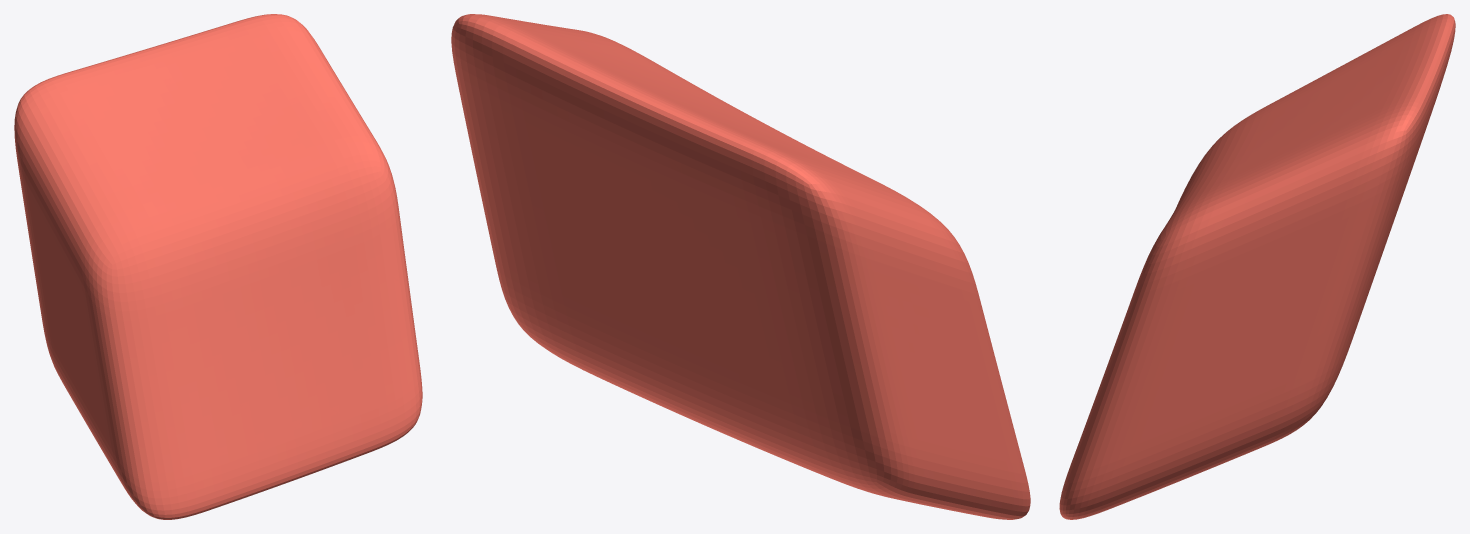
3 views of the same model, side by side, from view 1: azimuth 30°, elevation 25°; view 2: azimuth 150°, elevation 25°; view 3: azimuth 270°, elevation 25° (orthographic). The views are drawn at different scales.
Visible parts, largest first — view 1: waves_1.060; view 2: waves_1.060; view 3: waves_1.060.
Part boxes in pixels (<box>): waves_1.060: <box>14,14,422,519</box>; waves_1.060: <box>451,14,1030,519</box>; waves_1.060: <box>1059,14,1455,519</box>.
Bounding box in the file's own units: 30.42 × 36.72 × 28.79.
